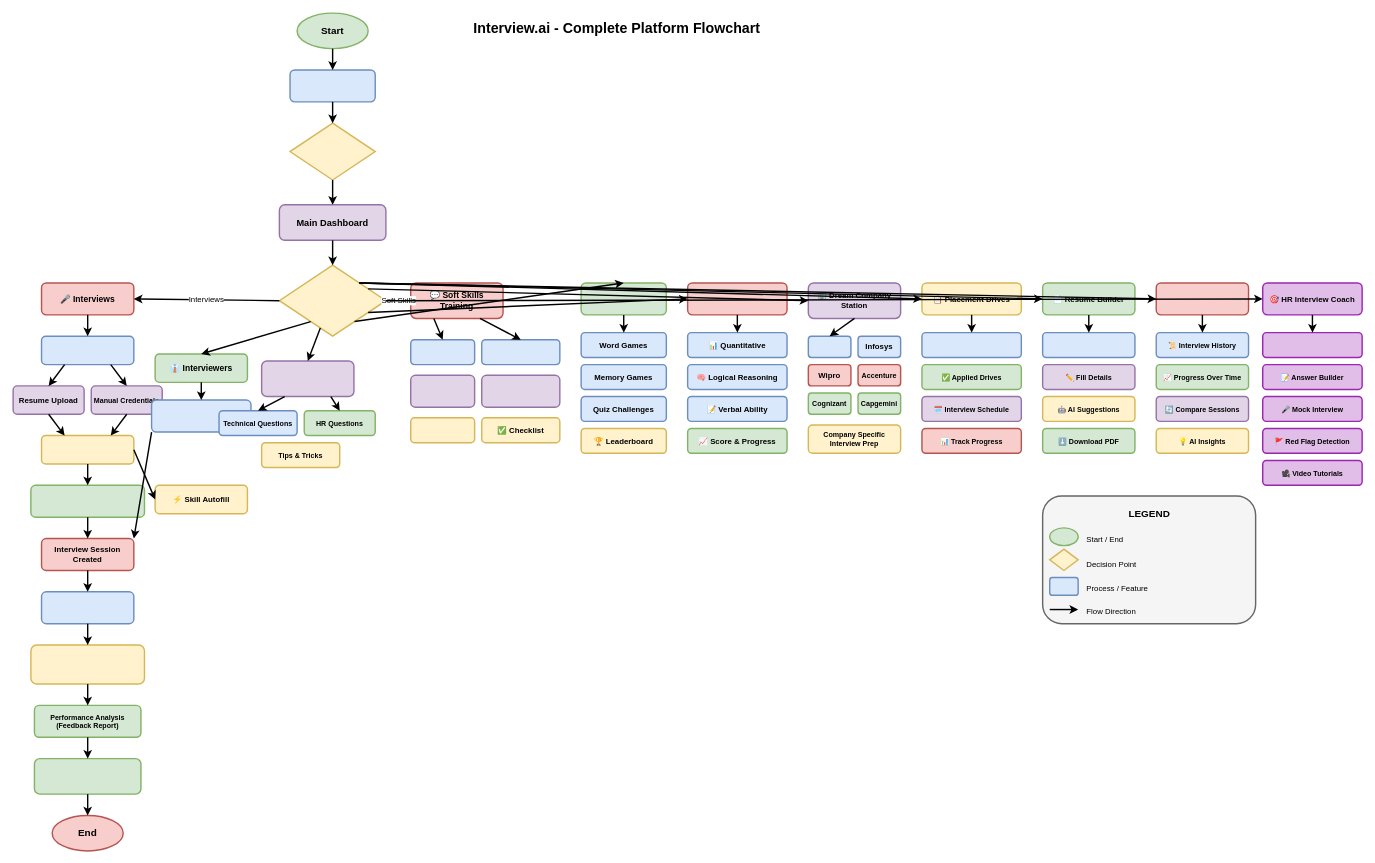
The diagram is 1375 pixels wide and 863 high, and some of its shapes have lost their labels. Here are the shapes that lost their labels. From the top down, the centre of each, then its label:
the point at 332,85: User
the point at 332,151: Login / Sign Up
the point at 332,300: Choose Feature
the point at 623,298: 🎮 Games
the point at 737,298: 🧮 Aptitude Arena
the point at 1202,298: ⏰ Time Machine
the point at 87,350: Upload Documents
the point at 442,352: 📹 Videos
the point at 520,352: 🖼️ Image Guidance
the point at 829,346: TCS
the point at 971,345: 📅 Upcoming Drives
the point at 1088,345: 📋 Select Template
the point at 1312,345: 👤 Setup Profile
the point at 307,378: 📚 Interview Resource Hub
the point at 442,391: 📝 Quiz (Self Evaluation)
the point at 520,391: 📄 PDF Guidance
the point at 201,415: Select AI Interviewer (Personality Type)
the point at 442,430: 💡 Daily Tips
the point at 87,449: NLP Extraction
the point at 87,501: AI Questions Generated (OpenAI / Gemini)
the point at 87,607: Real-time Voice Interview
the point at 87,664: Speech to Text + Sentiment Analysis + Facial Recognition
the point at 87,776: Final Report Generation
